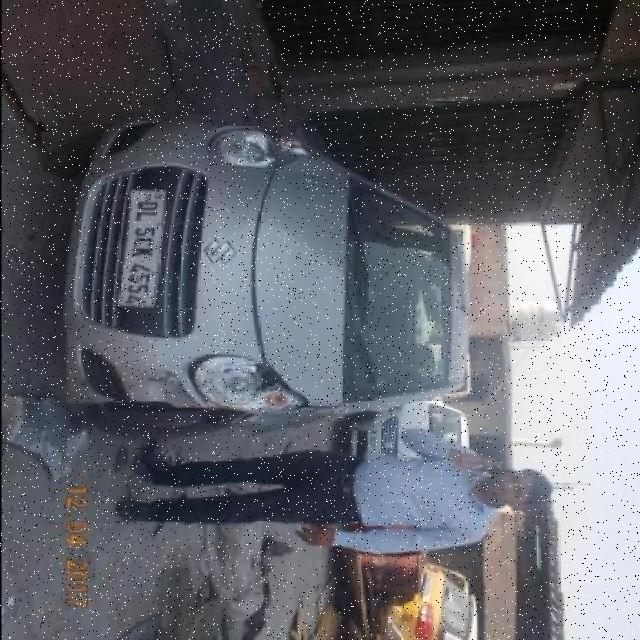damage: (61, 397, 251, 427), (249, 359, 305, 409), (140, 380, 208, 408), (136, 367, 182, 386)
